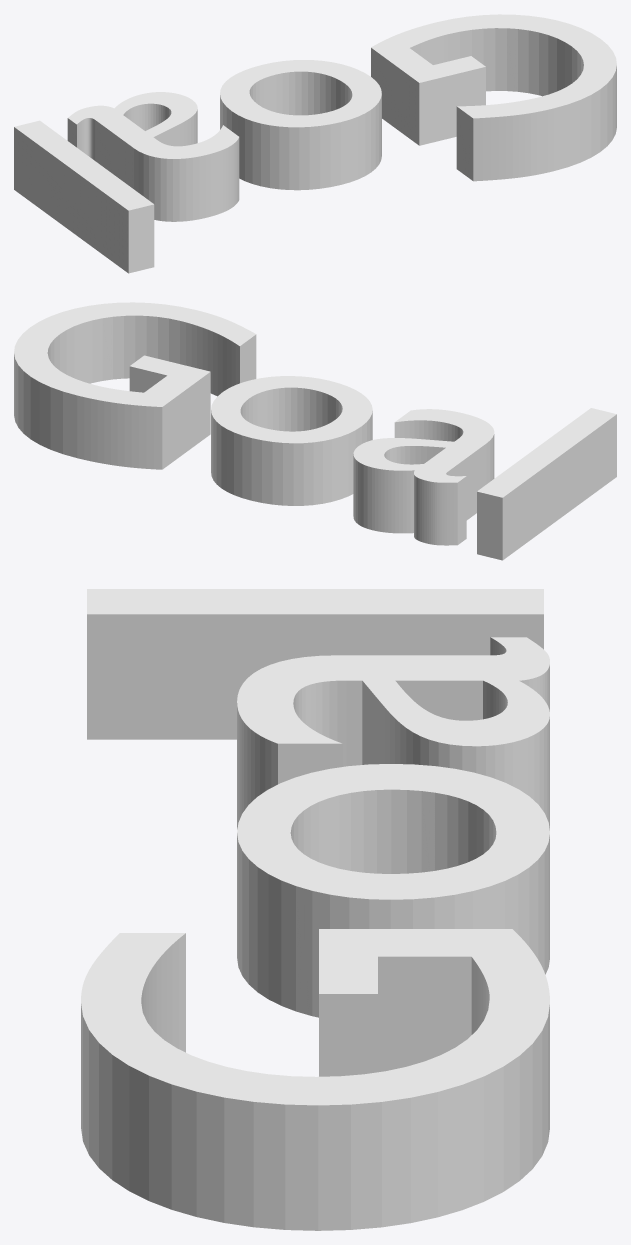
Rendered from goal.obj.
The picture shows the model from 3 angles, top to bottom: view 1: azimuth 30°, elevation 25°; view 2: azimuth 150°, elevation 25°; view 3: azimuth 270°, elevation 25°; orthographic projection. The views are drawn at different scales.
Visible parts, largest first — view 1: テキスト; view 2: テキスト; view 3: テキスト.
Boxes of the visible parts, box(x1,y1,x2,y2) form: テキスト: box(14, 14, 616, 273); テキスト: box(14, 302, 616, 560); テキスト: box(81, 589, 549, 1230).
Bounding box in the file's own units: 1.82 × 0.2065 × 0.7.
1 material, 1 textured.
